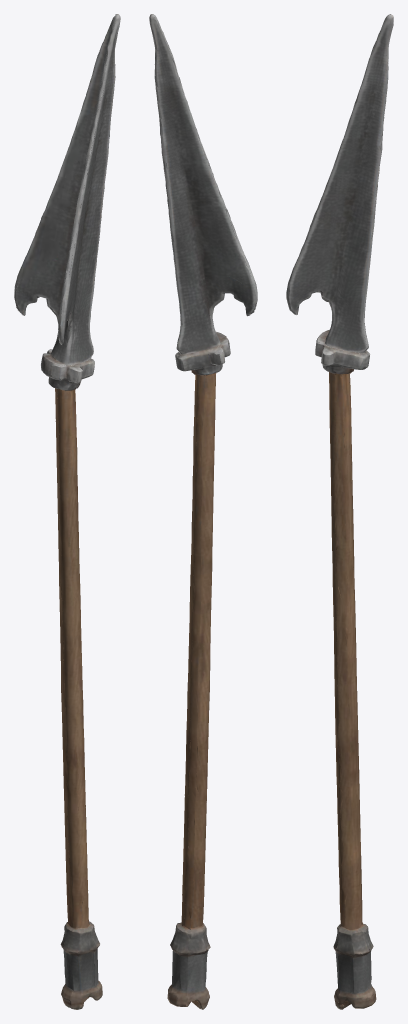
File: тип-спис.glb
3 renders of one model, left to right at view 1: azimuth 30°, elevation 25°; view 2: azimuth 210°, elevation 25°; view 3: azimuth 330°, elevation 25°, orthographic. The views are drawn at different scales.
Parts seen in each view (by area): view 1: тип-спис; view 2: тип-спис; view 3: тип-спис.
Boxes of the visible parts, left/top/right/bottom form: тип-спис: left=14, top=14, right=120, bottom=1009; тип-спис: left=149, top=14, right=257, bottom=1009; тип-спис: left=286, top=14, right=393, bottom=1009.
Bounding box in the file's own units: 0.1727 × 1.95 × 0.1739.
1 material, 1 textured.
